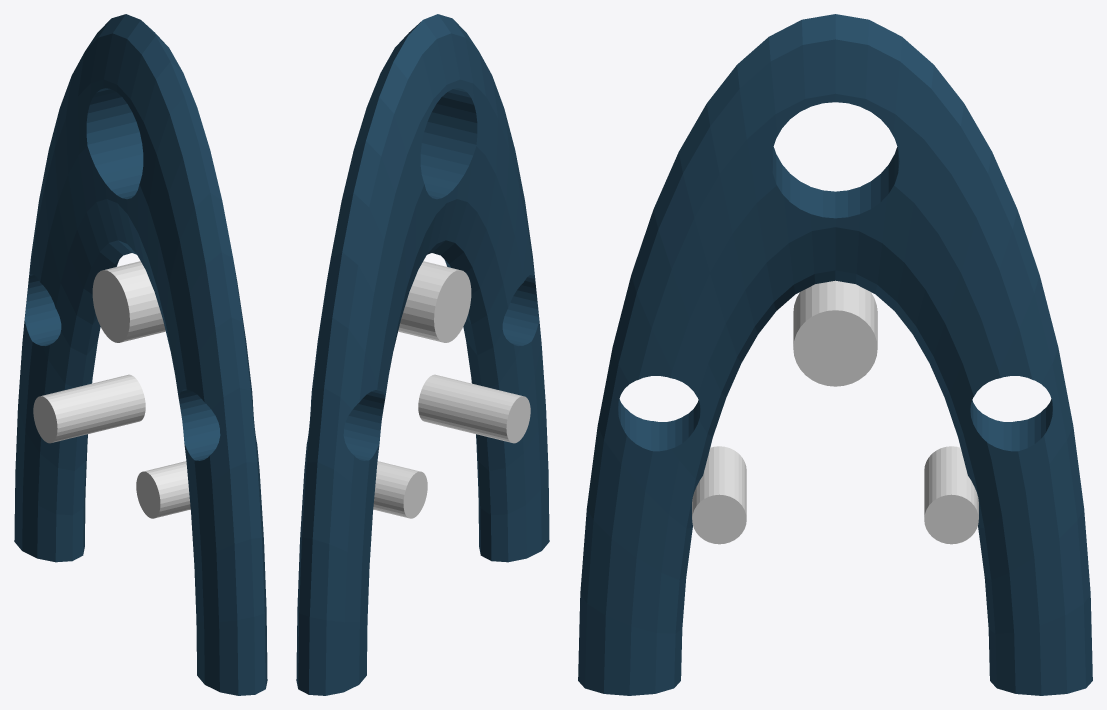
File: tor.glb
3 renders of one model, left to right at view 1: azimuth 30°, elevation 25°; view 2: azimuth 150°, elevation 25°; view 3: azimuth 270°, elevation 25°, orthographic. The views are drawn at different scales.
Parts seen in each view (by area): view 1: Torus, Cylinder.002, Cylinder, Cylinder.001; view 2: Torus, Cylinder.001, Cylinder, Cylinder.002; view 3: Torus, Cylinder, Cylinder.001, Cylinder.002.
Boxes of the visible parts, x1,y1,x2,y2 form: Torus: (14, 14, 267, 695); Cylinder.002: (33, 374, 145, 443); Cylinder: (92, 261, 165, 342); Cylinder.001: (136, 461, 190, 518); Torus: (296, 14, 549, 695); Cylinder.001: (418, 374, 530, 443); Cylinder: (398, 261, 471, 342); Cylinder.002: (373, 461, 427, 518); Torus: (578, 14, 1092, 695); Cylinder: (793, 280, 877, 386); Cylinder.001: (692, 446, 746, 544); Cylinder.002: (924, 446, 978, 544).
Size of the model in its own units: 0.8411 by 5.39 by 3.77.
